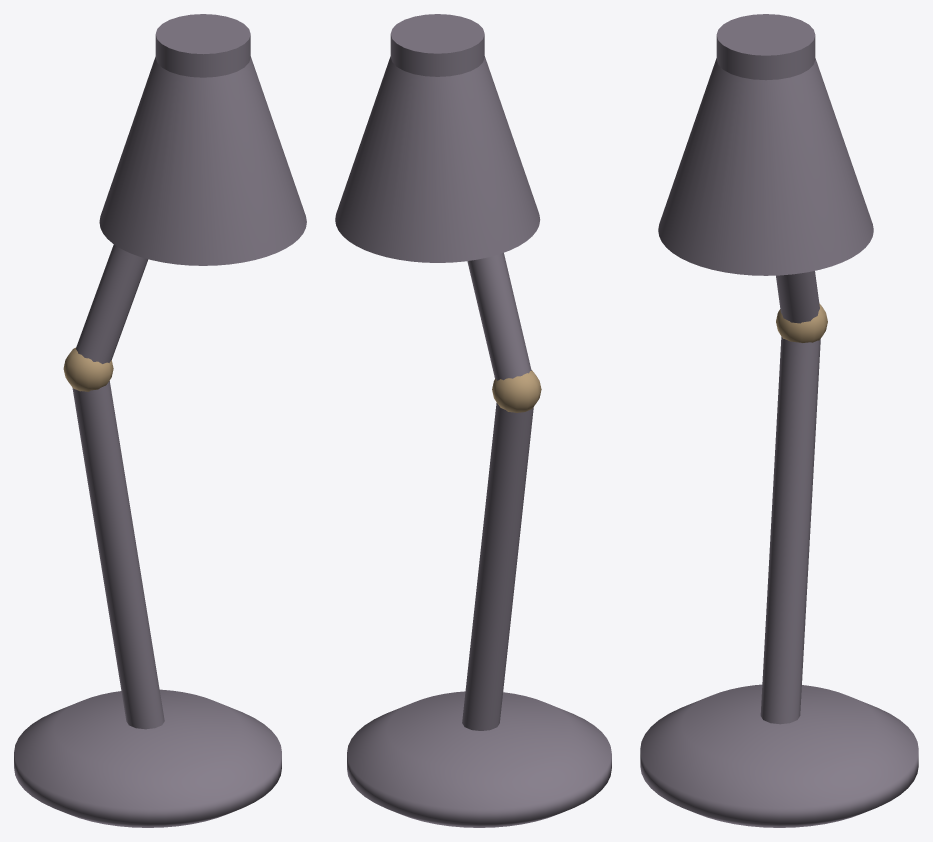
The model's file is desklamp.glb.
3 views of the same model, side by side, from view 1: azimuth 30°, elevation 25°; view 2: azimuth 150°, elevation 25°; view 3: azimuth 270°, elevation 25° (orthographic). The views are drawn at different scales.
Parts seen in each view (by area): view 1: open-desk-shade, weighted-desk-base, lower-hinged-arm, receiving-shade-cap, upper-hinged-arm, readable-elbow-pivot; view 2: open-desk-shade, weighted-desk-base, lower-hinged-arm, receiving-shade-cap, upper-hinged-arm, readable-elbow-pivot; view 3: open-desk-shade, weighted-desk-base, lower-hinged-arm, receiving-shade-cap, upper-hinged-arm, readable-elbow-pivot.
Boxes of the visible parts, x1,y1,x2,y2 form: open-desk-shade: (99, 56, 306, 265); weighted-desk-base: (14, 689, 281, 827); lower-hinged-arm: (72, 381, 164, 729); receiving-shade-cap: (155, 14, 250, 77); upper-hinged-arm: (76, 244, 148, 363); readable-elbow-pivot: (63, 347, 113, 391); open-desk-shade: (335, 56, 540, 262); weighted-desk-base: (347, 691, 611, 827); lower-hinged-arm: (462, 403, 533, 730); receiving-shade-cap: (390, 14, 484, 76); upper-hinged-arm: (467, 253, 531, 380); readable-elbow-pivot: (492, 370, 541, 412); open-desk-shade: (658, 58, 873, 275); weighted-desk-base: (640, 684, 918, 827); lower-hinged-arm: (760, 336, 820, 724); receiving-shade-cap: (716, 14, 815, 80); upper-hinged-arm: (776, 271, 819, 323); readable-elbow-pivot: (776, 303, 827, 342).
Size of the model in its own units: 0.34 by 0.9428 by 0.31.
